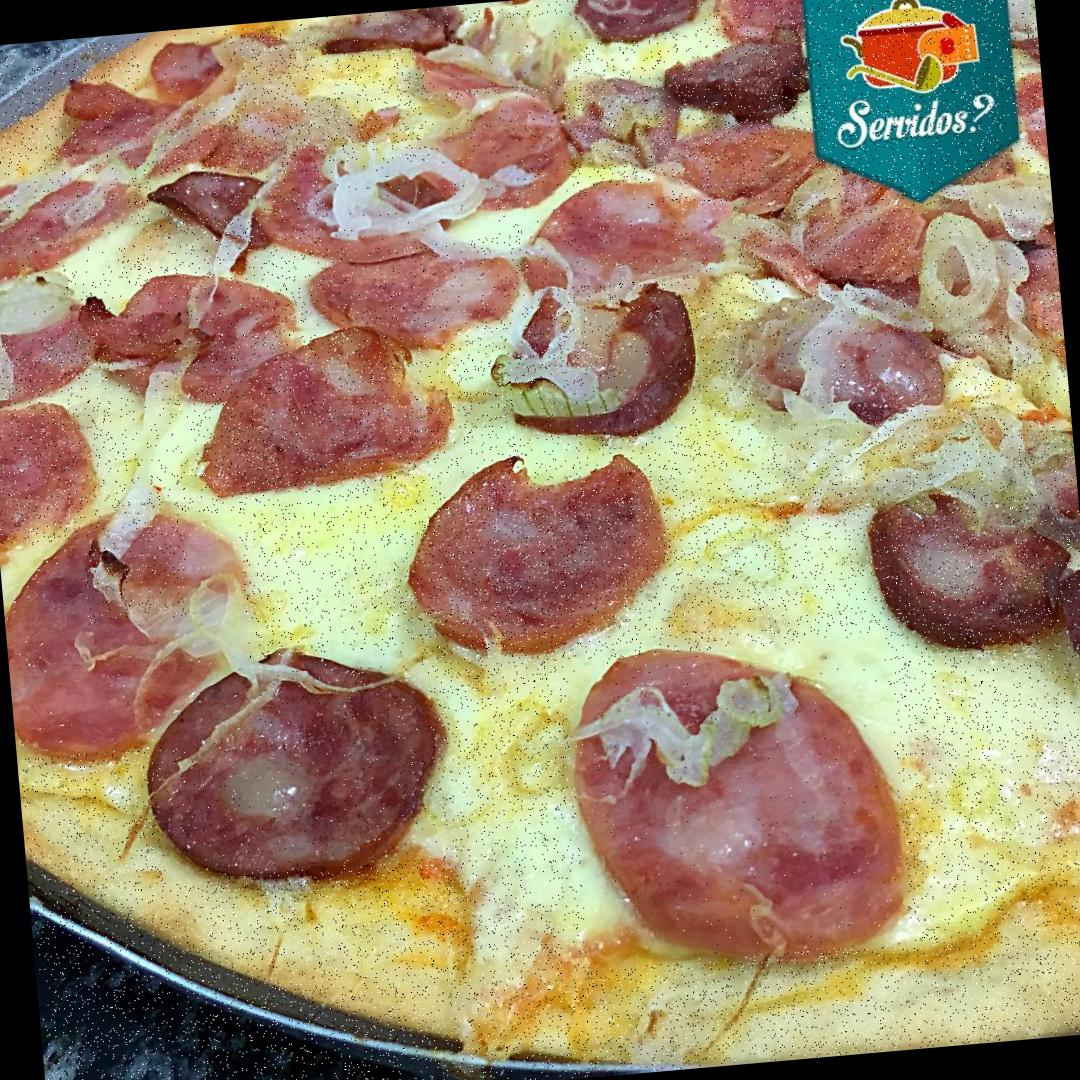Onion: (873, 399, 1054, 542), (598, 661, 800, 782), (322, 151, 498, 252), (910, 199, 1019, 334), (79, 504, 191, 626), (323, 154, 478, 232), (421, 16, 575, 94), (505, 291, 624, 390), (107, 363, 195, 469), (978, 168, 1056, 254), (0, 263, 69, 341)
Pepperoni: (564, 636, 912, 971), (145, 644, 445, 882), (0, 512, 257, 760), (403, 440, 675, 665), (871, 461, 1080, 658), (200, 331, 456, 486), (504, 285, 691, 440), (748, 306, 937, 446), (522, 173, 738, 290), (310, 241, 533, 353), (248, 140, 450, 262), (102, 276, 282, 394), (660, 37, 828, 156), (422, 89, 573, 205), (0, 166, 140, 270), (0, 400, 97, 549), (673, 118, 815, 215), (798, 193, 936, 286), (54, 74, 164, 167), (0, 301, 101, 402), (138, 33, 234, 116), (318, 4, 470, 56), (155, 166, 256, 226), (576, 81, 660, 150), (571, 0, 711, 40), (713, 0, 814, 39)
Pizza: (0, 0, 1080, 1080)
